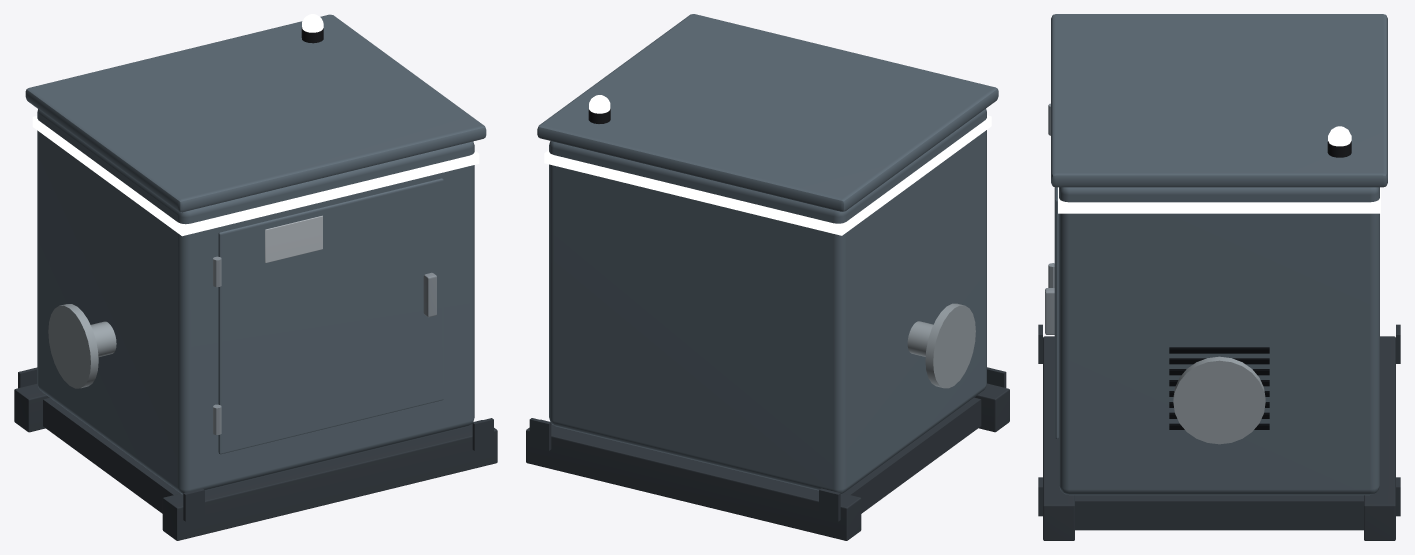
The model's file is custom_box.glb.
3 views of the same model, side by side, from view 1: azimuth 30°, elevation 25°; view 2: azimuth 150°, elevation 25°; view 3: azimuth 270°, elevation 25° (orthographic). The views are drawn at different scales.
Parts seen in each view (by area): view 1: BODY_enclosure, BODY_skid, STATUS_BAND, nozzles, nameplate, hardware; view 2: BODY_enclosure, BODY_skid, STATUS_BAND, nozzles; view 3: BODY_enclosure, BODY_skid, nozzles, STATUS_BAND, hardware.
Boxes of the visible parts, x1,y1,x2,y2 form: BODY_enclosure: (25, 14, 486, 494); BODY_skid: (14, 367, 497, 540); STATUS_BAND: (32, 116, 479, 236); nozzles: (48, 304, 116, 388); nameplate: (265, 215, 322, 262); hardware: (213, 256, 436, 434); BODY_enclosure: (537, 14, 998, 494); BODY_skid: (526, 367, 1009, 540); STATUS_BAND: (544, 115, 991, 235); nozzles: (907, 303, 975, 388); BODY_enclosure: (1051, 14, 1387, 495); BODY_skid: (1038, 324, 1400, 540); nozzles: (1173, 356, 1265, 444); STATUS_BAND: (1058, 187, 1380, 213); hardware: (1045, 103, 1269, 429).
Bounding box in the file's own units: 1.16 × 1.07 × 0.904.
